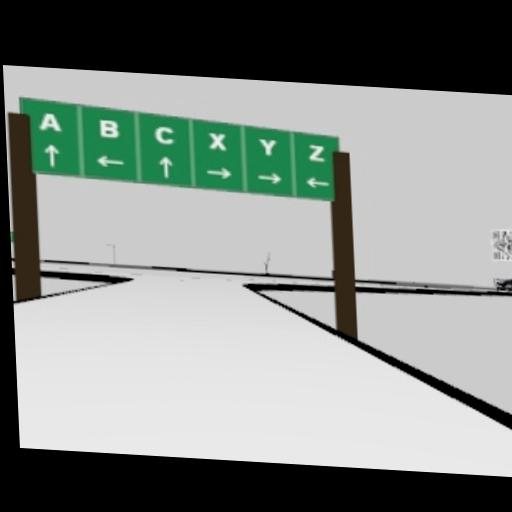A: (38, 111, 60, 130)
B: (97, 115, 119, 137)
C: (154, 124, 175, 143)
Left: (96, 153, 124, 167), (305, 176, 330, 187)
Right: (256, 170, 282, 183), (205, 165, 231, 178)
Straight: (43, 143, 59, 165), (159, 155, 173, 176)
X: (207, 130, 226, 149)
Y: (258, 136, 277, 155)
Z: (308, 142, 326, 160)
